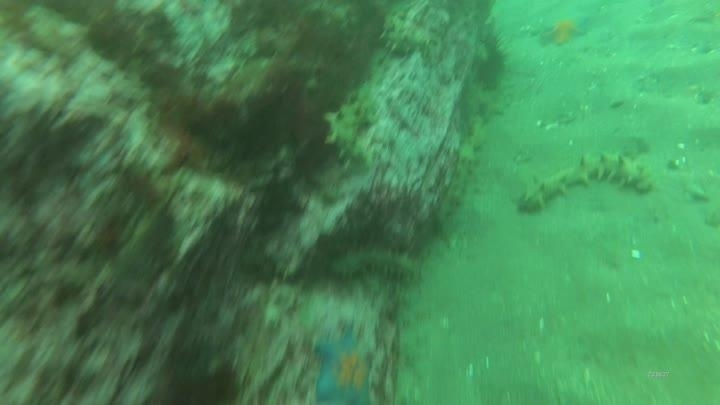echinus: (469, 28, 512, 95)
holothurian: (513, 147, 657, 217), (435, 117, 488, 241), (321, 89, 379, 176), (325, 243, 422, 285), (375, 13, 437, 60)
starfish: (309, 327, 378, 405), (537, 10, 596, 50)
